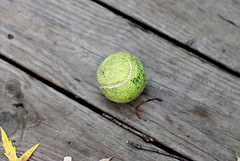tennis ball: (96, 51, 147, 104)
